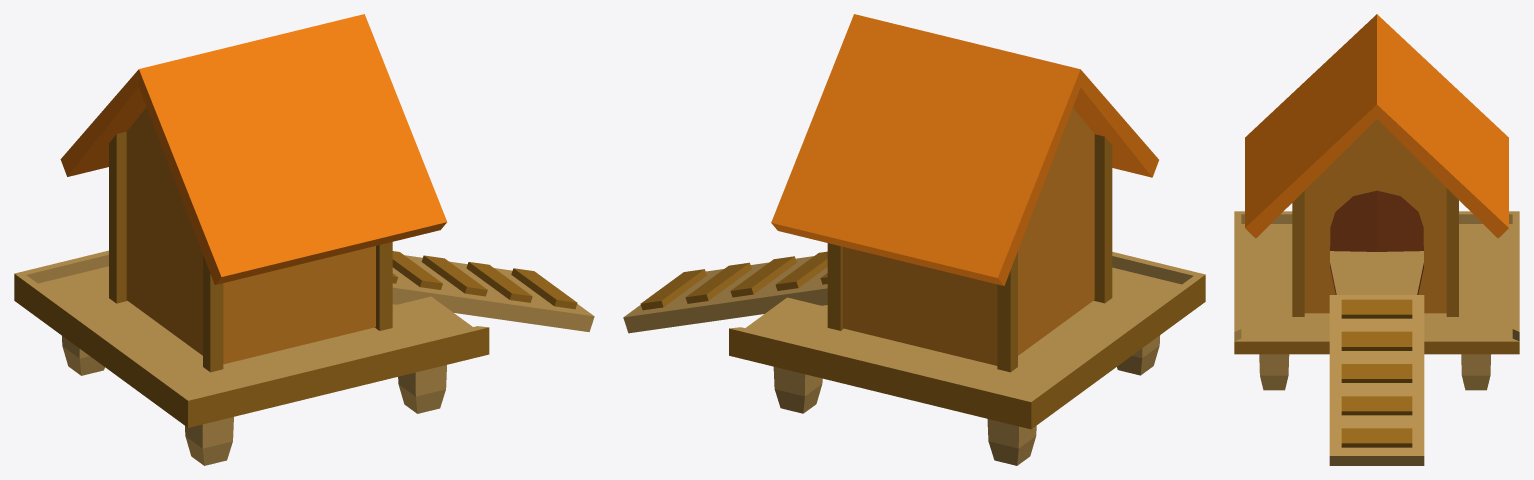
File: henouse.fbx
3 views of the same model, side by side, from view 1: azimuth 30°, elevation 25°; view 2: azimuth 150°, elevation 25°; view 3: azimuth 270°, elevation 25° (orthographic). The views are drawn at different scales.
Visible parts, largest first — view 1: henouse; view 2: henouse; view 3: henouse.
Part boxes in pixels (x1,y1,x2,y2): henouse: (14, 14, 594, 465); henouse: (623, 14, 1205, 465); henouse: (1234, 14, 1519, 465).
Bounding box in the file's own units: 1243 × 883 × 806.
